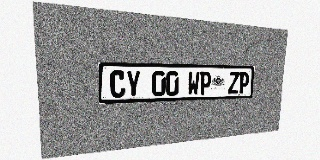0: (152, 71, 166, 97), (166, 71, 179, 96)
C: (110, 70, 125, 98)
P: (199, 71, 212, 95), (238, 72, 249, 94)
W: (187, 71, 200, 95)
Y: (126, 70, 141, 97)
Z: (228, 72, 239, 94)
